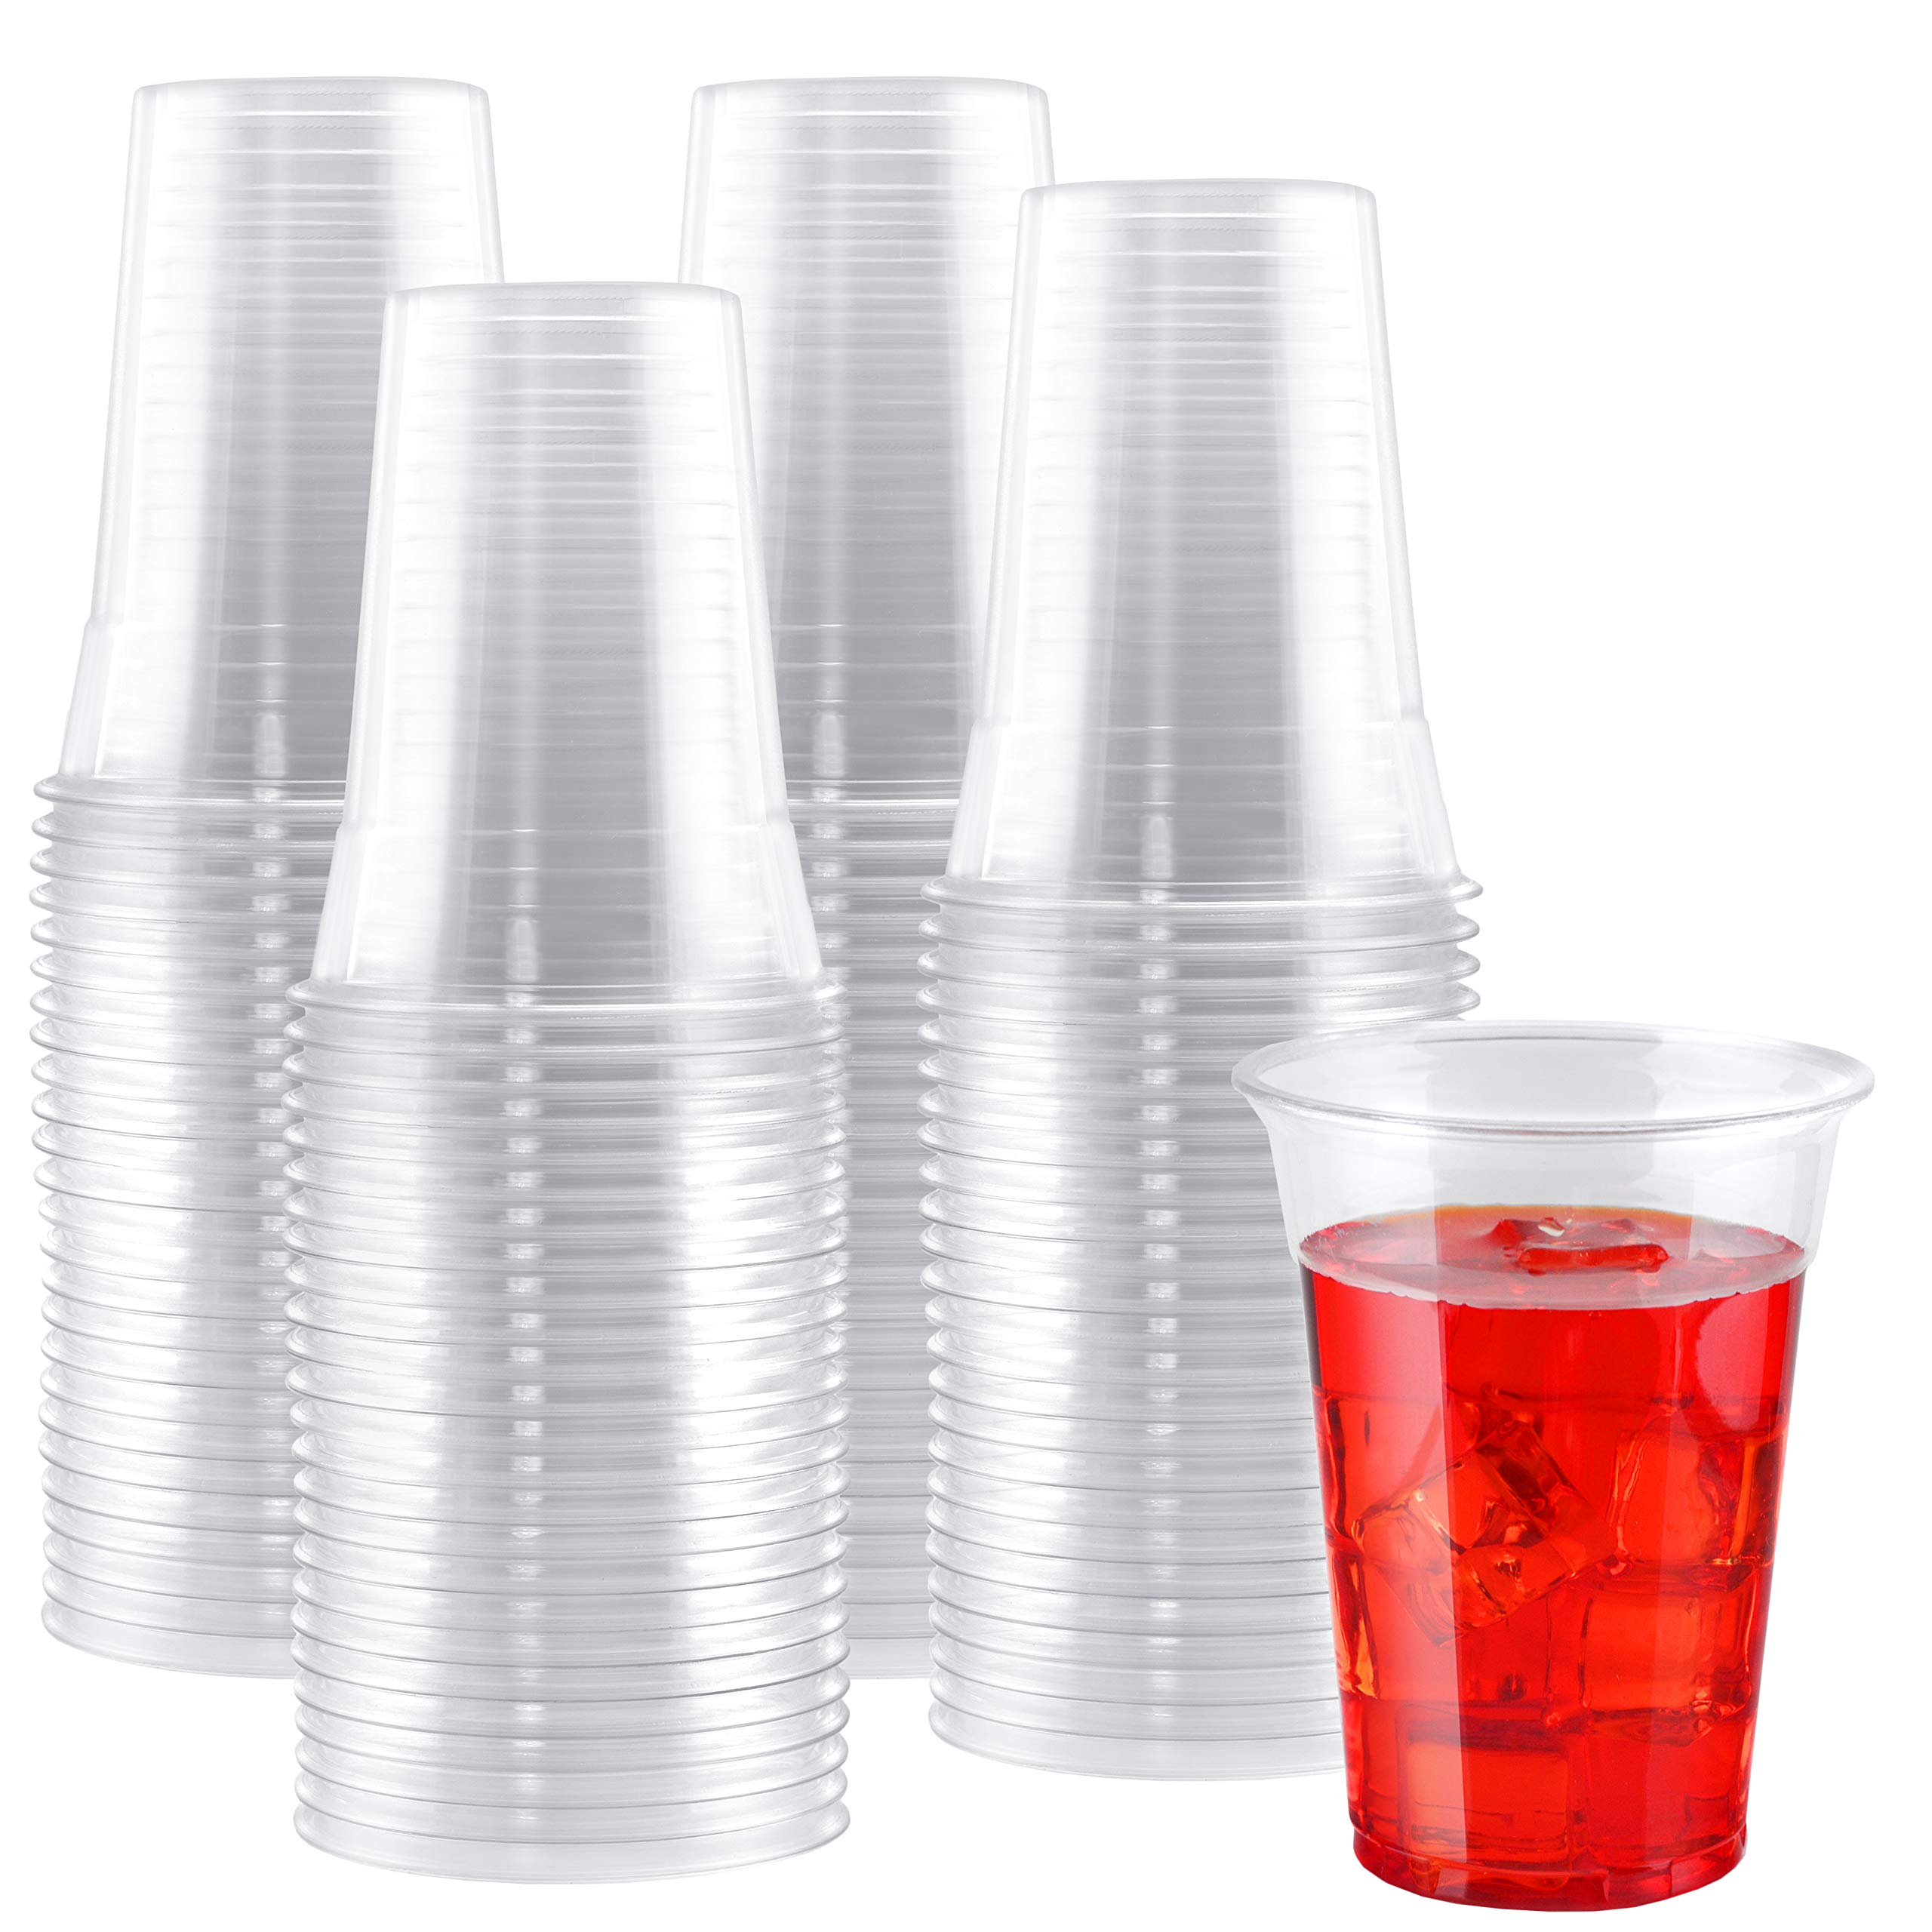plastic_glass: (1233, 1001, 1875, 1925)
